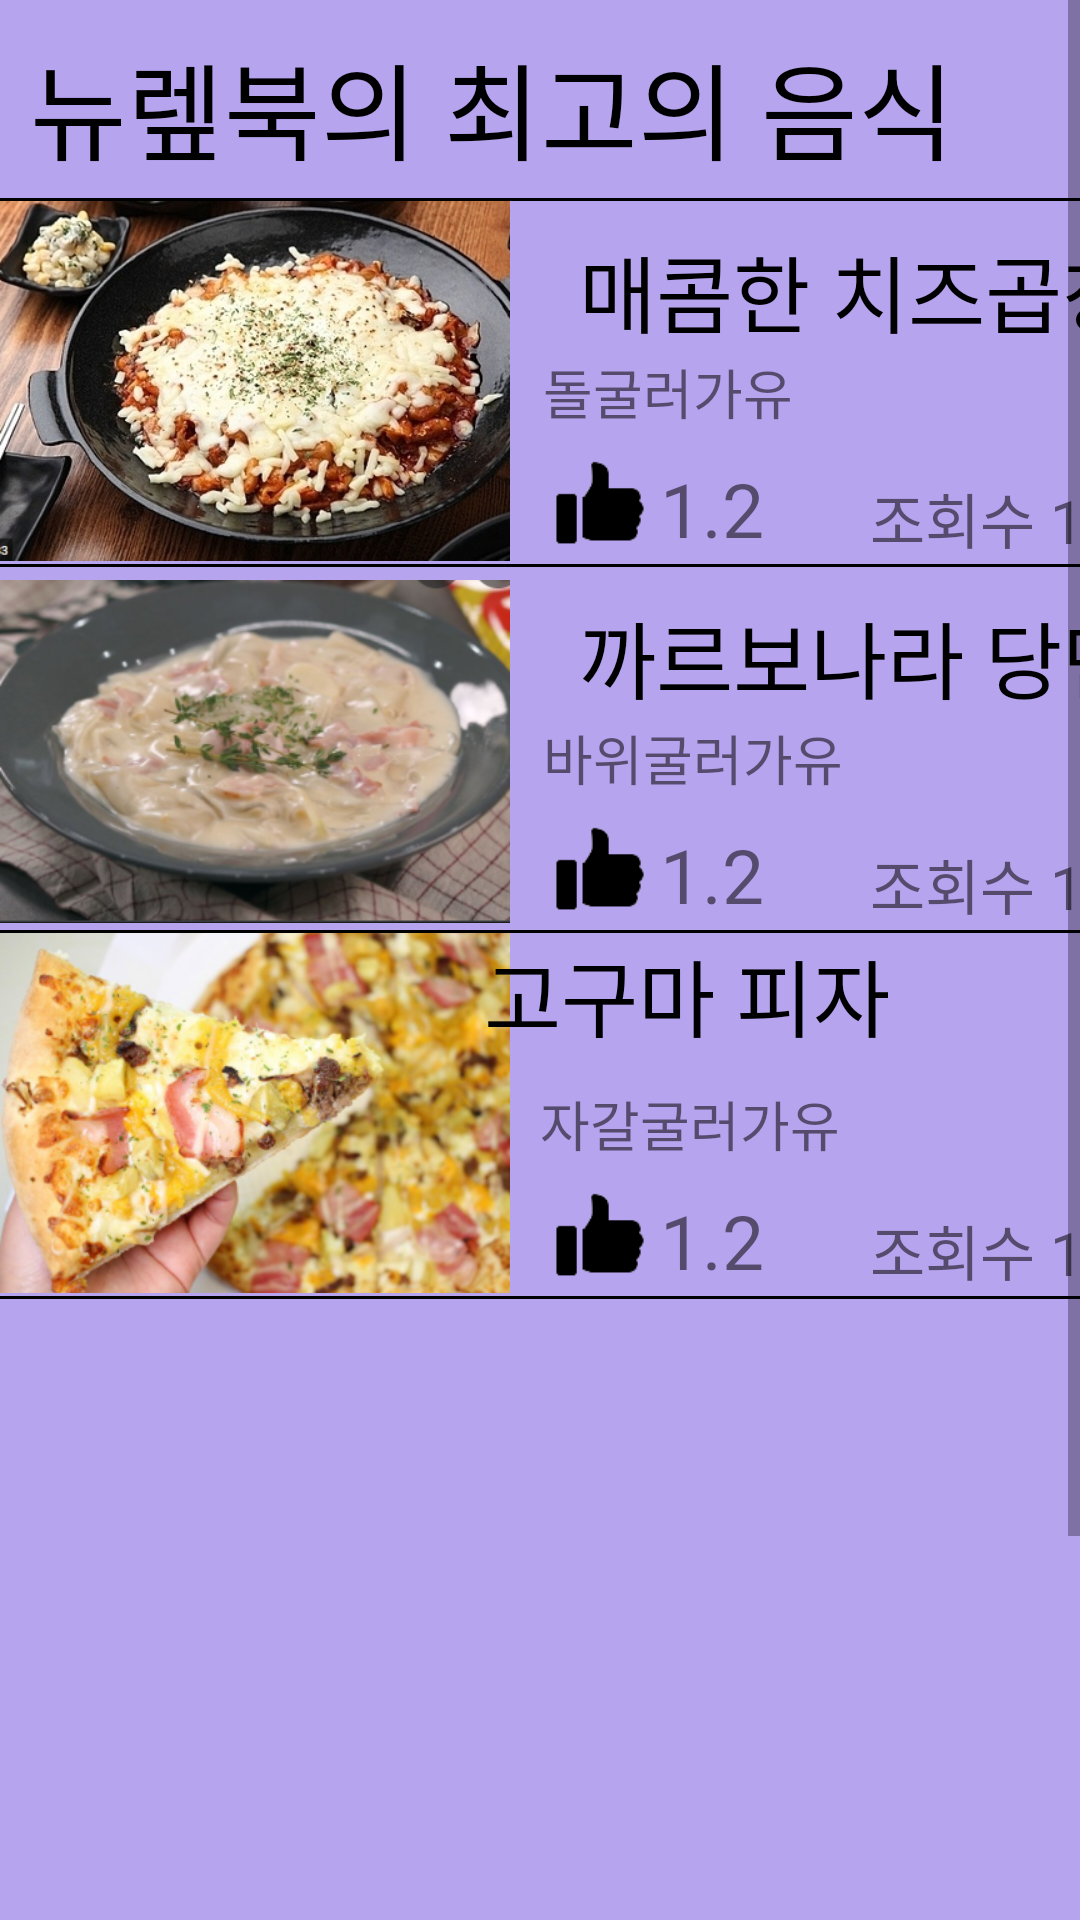

Where to tap for icons on this 1080×1920 app screen, as (x=x, y=y):
like: (x=600, y=503), (x=600, y=869), (x=600, y=1235)
